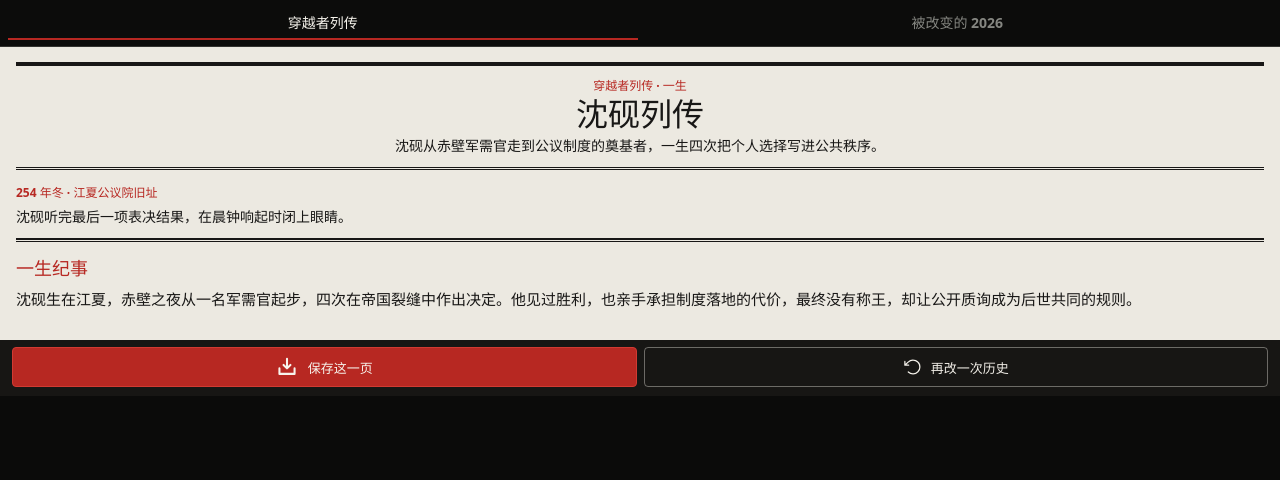
alternate present export › disposes a prepared image when leaving the result screen
Click the button "保存这一页".
click(324, 367)  # box [12,347,636,387]
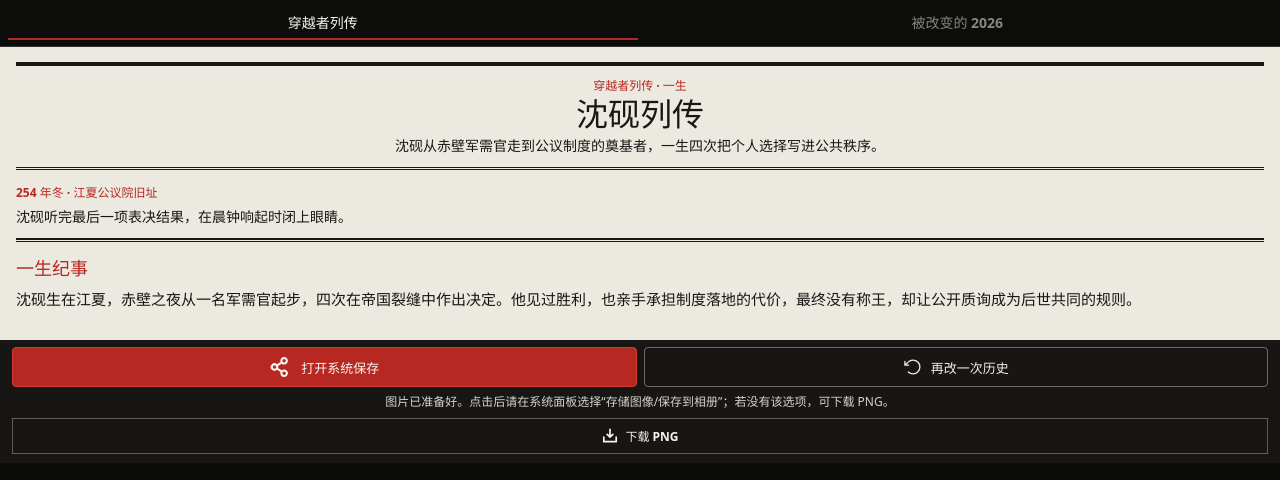
Check: the button "打开系统保存" is shown, box [12,347,636,387]
